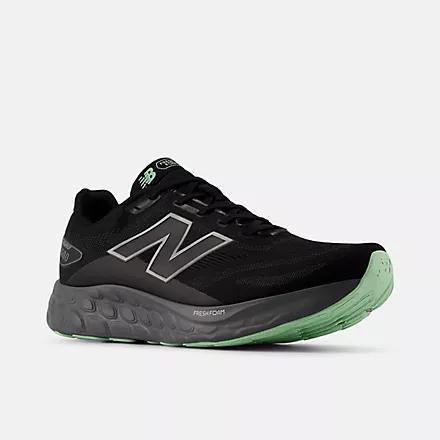NB logo: (101, 201, 242, 288)
